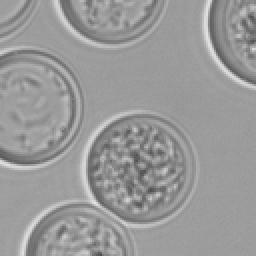picoshell: (86, 110, 196, 226), (0, 48, 82, 168), (26, 202, 132, 254), (54, 0, 166, 48), (202, 0, 254, 88)
